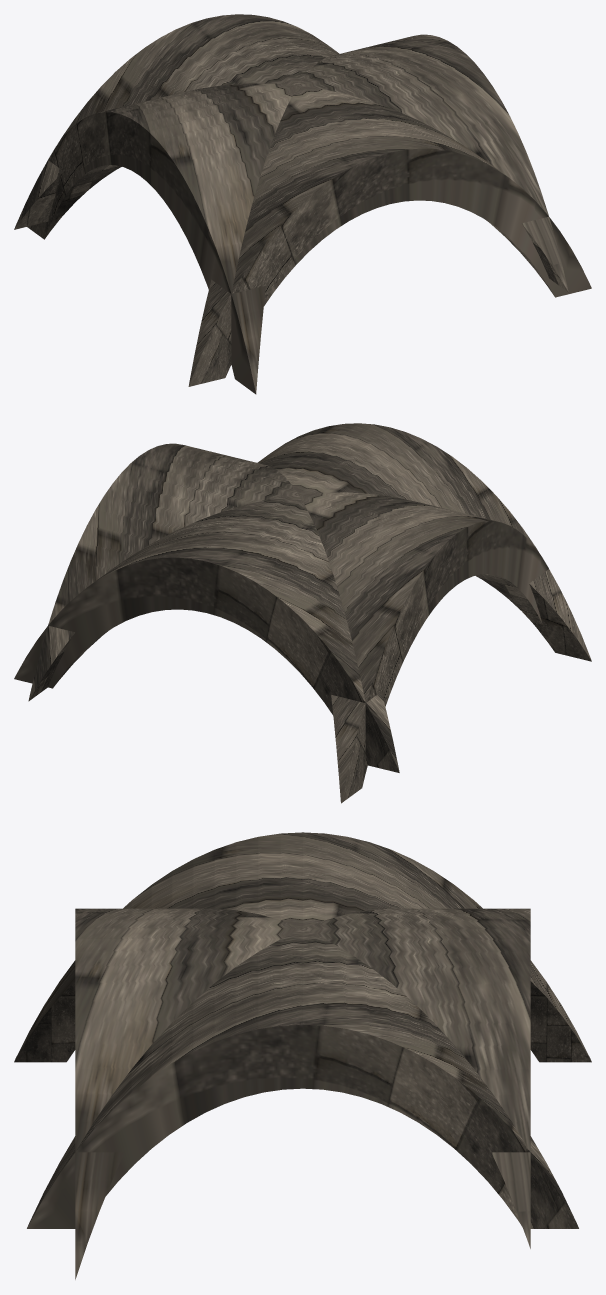
Rendered from 4cornerCeiling.fbx.
The picture shows the model from 3 angles, top to bottom: view 1: azimuth 30°, elevation 25°; view 2: azimuth 150°, elevation 25°; view 3: azimuth 270°, elevation 25°; orthographic projection. The views are drawn at different scales.
Parts seen in each view (by area): view 1: HallwayArch_1_13.009; view 2: HallwayArch_1_13.009; view 3: HallwayArch_1_13.009.
Part boxes in pixels (x1,y1,x2,y2): HallwayArch_1_13.009: [14, 14, 591, 394]; HallwayArch_1_13.009: [14, 423, 591, 803]; HallwayArch_1_13.009: [14, 832, 591, 1279].
Bounding box in the file's own units: 532 × 234 × 532.
